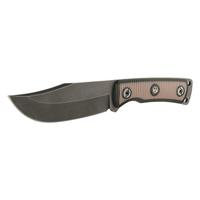knife: (7, 74, 194, 122)
